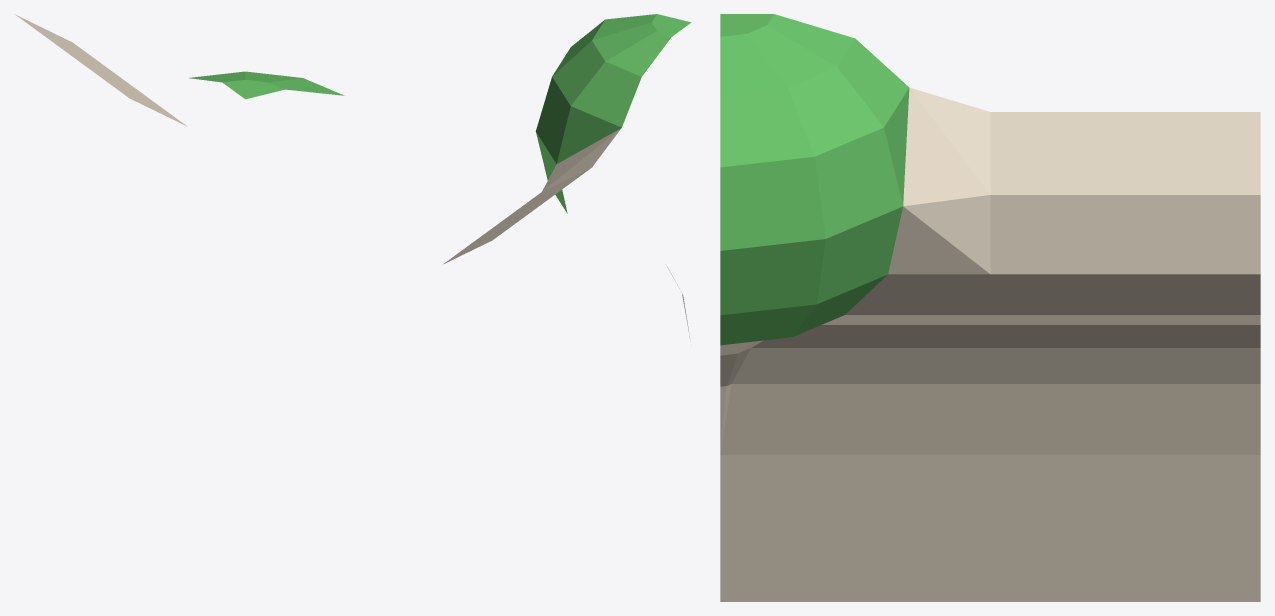
The model's file is Escarpment_Terrain_Side_Falloff_Edge.glb.
3 views of the same model, side by side, from view 1: azimuth 30°, elevation 25°; view 2: azimuth 150°, elevation 25°; view 3: azimuth 270°, elevation 25° (orthographic). The views are drawn at different scales.
Visible parts, largest first — view 1: Escarpment_Terrain_Side_Falloff_Edge; view 2: Escarpment_Terrain_Side_Falloff_Edge; view 3: Escarpment_Terrain_Side_Falloff_Edge.
Boxes of the visible parts, box(x1,y1,x2,y2) form: Escarpment_Terrain_Side_Falloff_Edge: box(15, 14, 344, 125); Escarpment_Terrain_Side_Falloff_Edge: box(444, 14, 691, 338); Escarpment_Terrain_Side_Falloff_Edge: box(720, 14, 1260, 601).
Size of the model in its own units: 0.3909 by 1.2 by 1.
